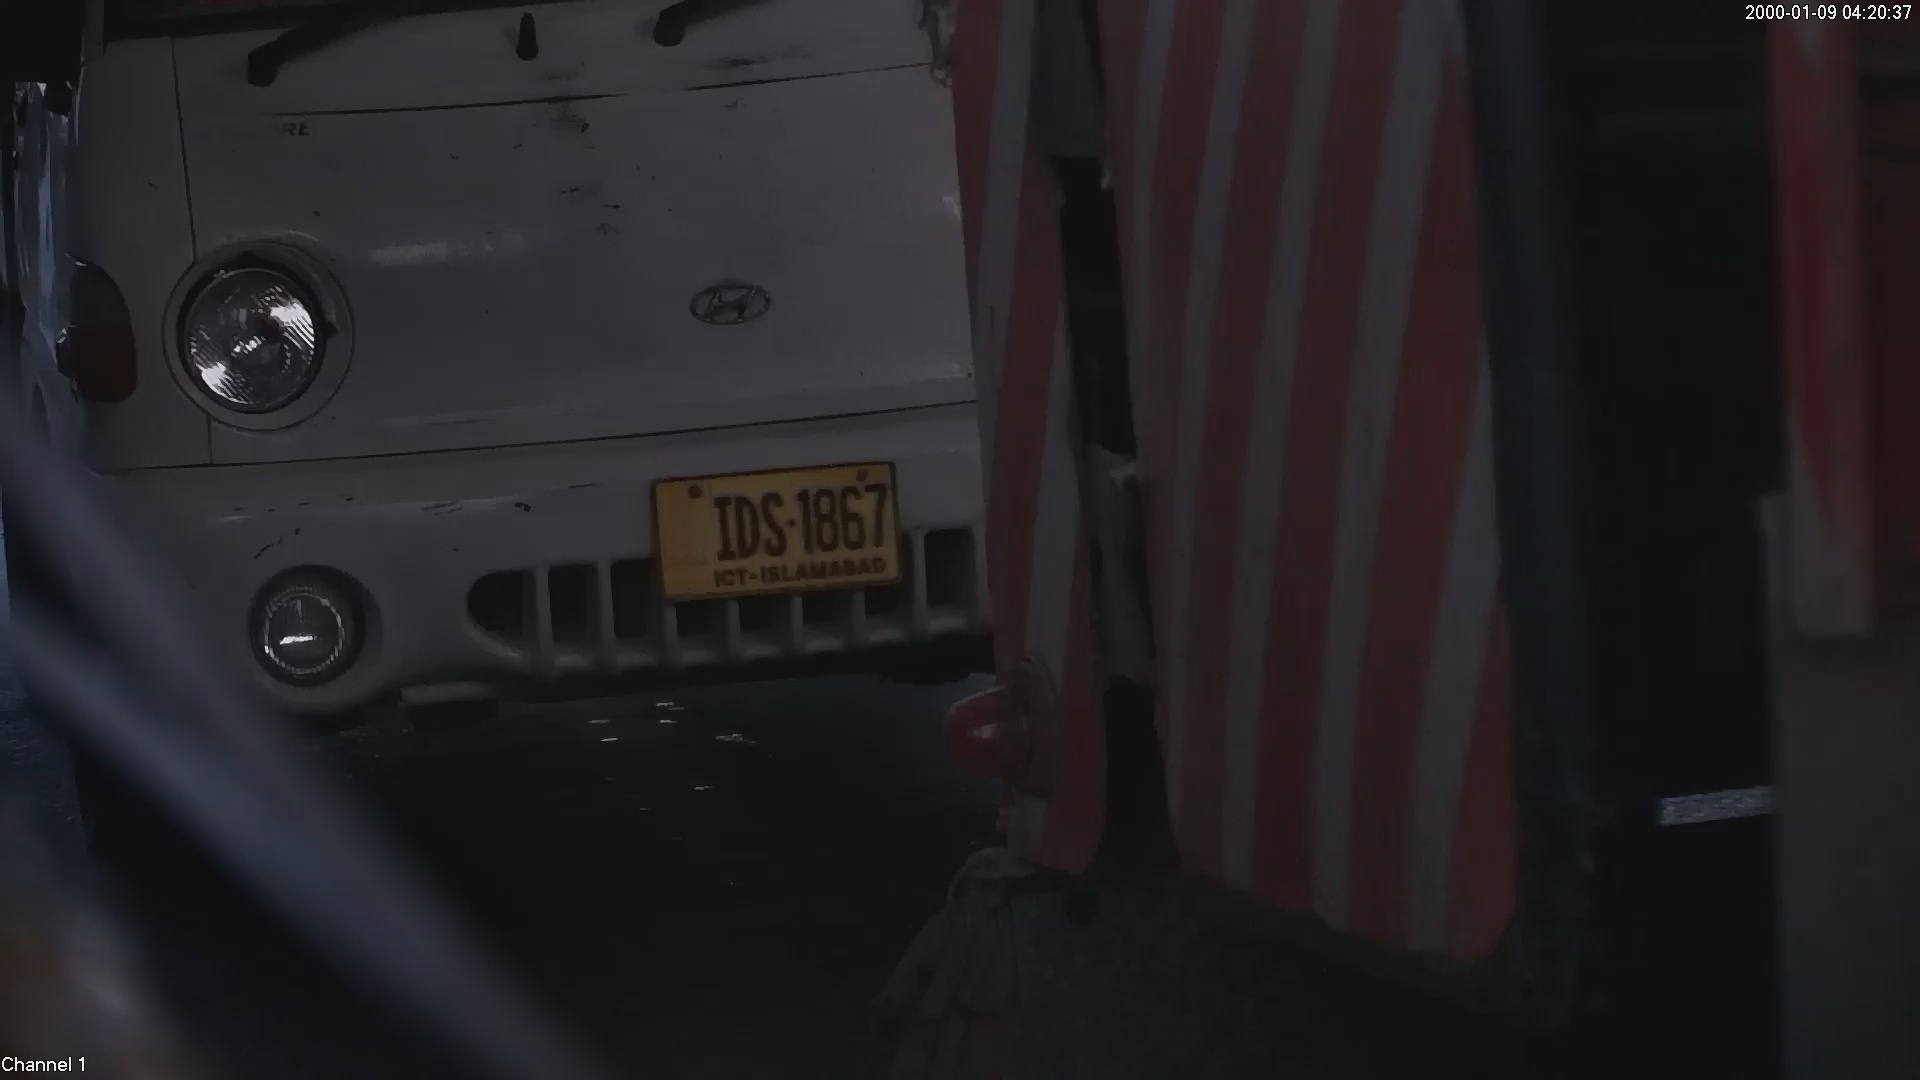Number_Plate: (630, 455, 934, 607)
Undefined: (150, 231, 347, 427), (237, 553, 376, 683), (654, 251, 787, 344)
